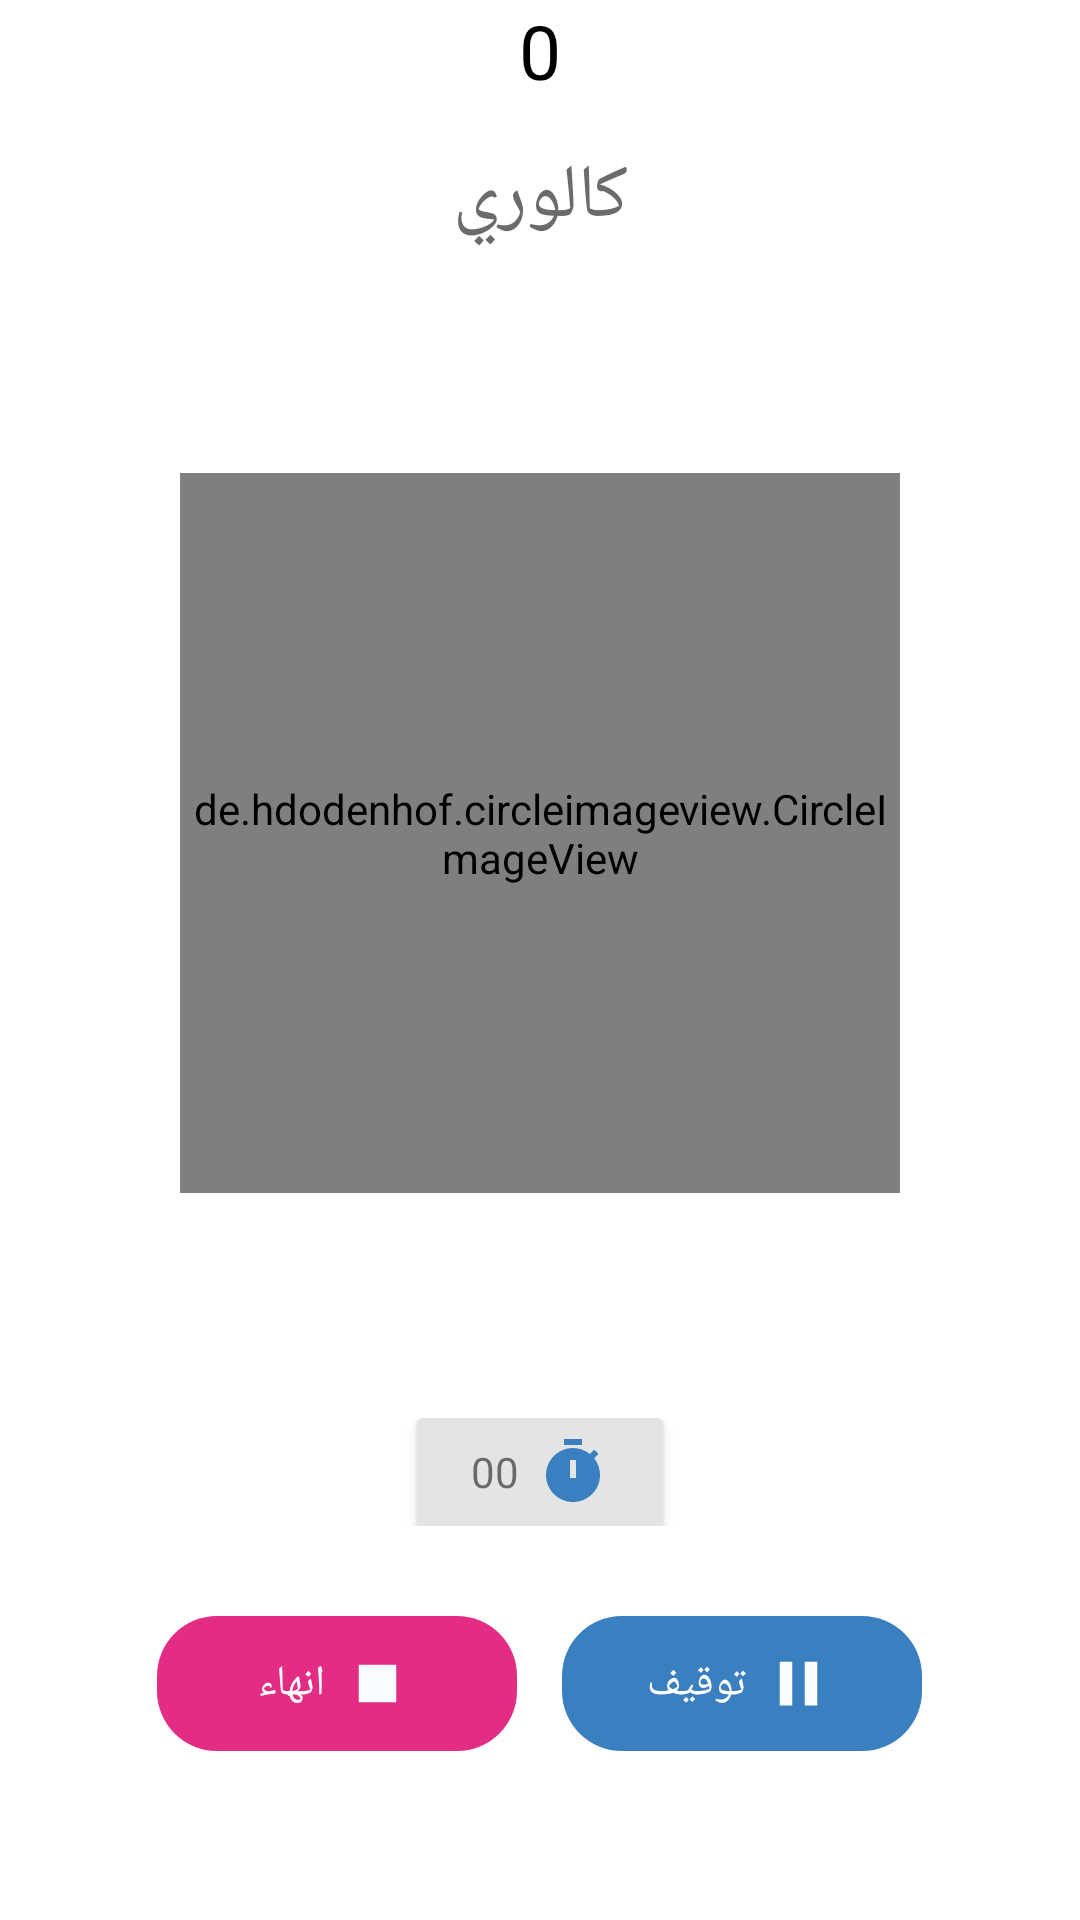

Icons on this 1080px×1920px Android screen, each with its box as rect(x1, y1, x2, y2):
timer: rect(546, 1439, 600, 1502)
